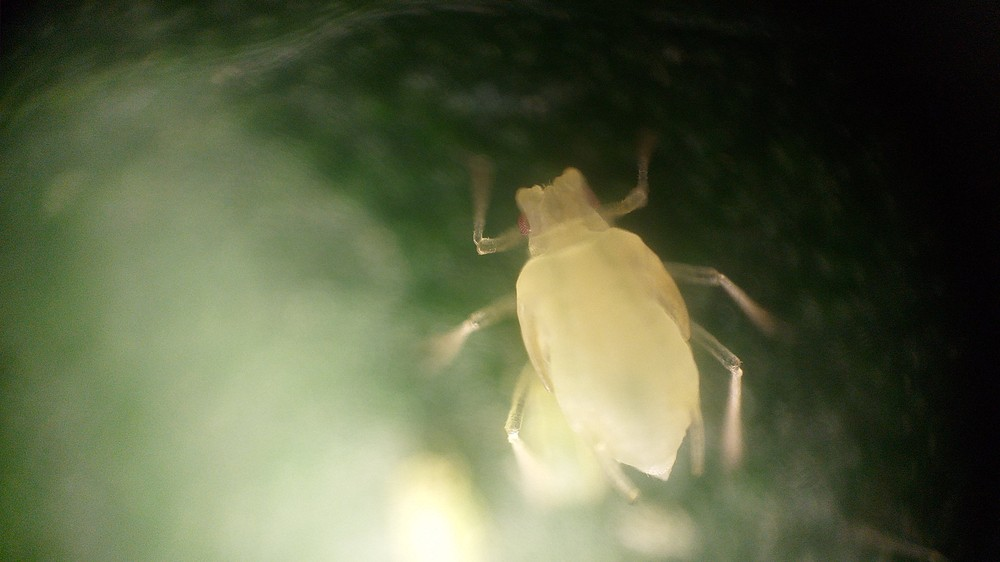Pulgon: (405, 126, 819, 518)
